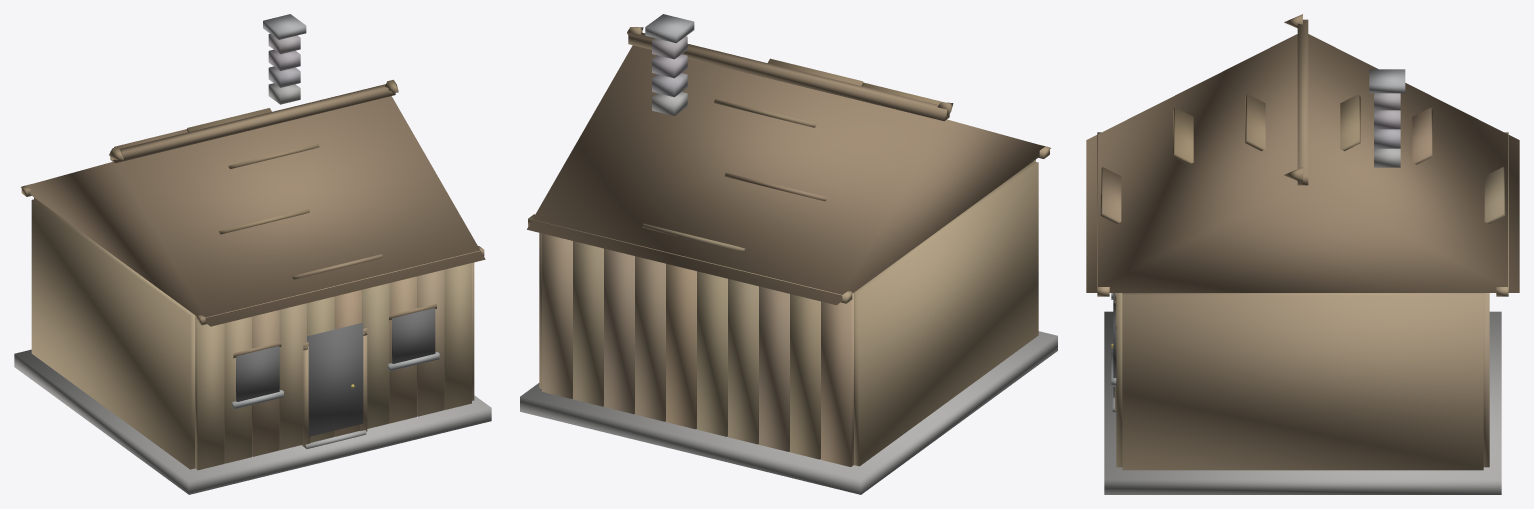
File: building_upgrade_l2.glb
3 renders of one model, left to right at view 1: azimuth 30°, elevation 25°; view 2: azimuth 150°, elevation 25°; view 3: azimuth 270°, elevation 25°, orthographic. The views are drawn at different scales.
Visible parts, largest first — view 1: roof_body, side_-1, foundation, open0, front_plank0, front_plank9, ridge, front_plank3, front_plank6, front_plank1, front_plank8, front_plank7 (+10 smaller); view 2: roof_body, side_-1, foundation, back_plank0, back_plank8, back_plank4, back_plank1, back_plank3, back_plank5, back_plank7, back_plank6, back_plank9 (+7 smaller); view 3: roof_body, side_1, foundation, ridge, front_plank9, back_plank9, tile_-1_0, tile_1_0, tile_-1_2, tile_1_2, tile_-1_1, tile_1_1 (+5 smaller).
Boxes of the visible parts, box(x1,y1,x2,y2) form: roof_body: box(20, 96, 485, 326); side_-1: box(31, 199, 195, 469); foundation: box(14, 349, 491, 494); open0: box(307, 323, 363, 436); front_plank0: box(195, 315, 224, 470); front_plank9: box(444, 263, 471, 409); ridge: box(110, 84, 395, 163); front_plank3: box(279, 303, 306, 450); front_plank6: box(362, 283, 389, 428); front_plank1: box(224, 316, 251, 463); front_plank8: box(417, 269, 444, 416); front_plank7: box(389, 276, 416, 423); roof_body: box(527, 45, 1050, 305); side_-1: box(854, 161, 1038, 466); foundation: box(520, 331, 1057, 494); back_plank0: box(821, 293, 853, 466); back_plank8: box(573, 241, 603, 406); back_plank4: box(697, 271, 727, 436); back_plank1: box(790, 294, 820, 459); back_plank3: box(728, 279, 758, 444); back_plank5: box(666, 263, 696, 429); back_plank7: box(604, 248, 634, 414); back_plank6: box(635, 256, 665, 421); back_plank9: box(542, 233, 572, 398); roof_body: box(1086, 34, 1519, 292); side_1: box(1122, 293, 1483, 470); foundation: box(1104, 311, 1501, 494); ridge: box(1297, 19, 1308, 185); front_plank9: box(1116, 293, 1122, 467); back_plank9: box(1483, 293, 1489, 467); tile_-1_0: box(1100, 167, 1121, 223); tile_1_0: box(1484, 167, 1505, 223); tile_-1_2: box(1245, 94, 1265, 151); tile_1_2: box(1340, 94, 1360, 151); tile_-1_1: box(1173, 107, 1193, 164); tile_1_1: box(1412, 107, 1432, 164).
Size of the model in its own units: 3.3 by 3.41 by 3.6.
